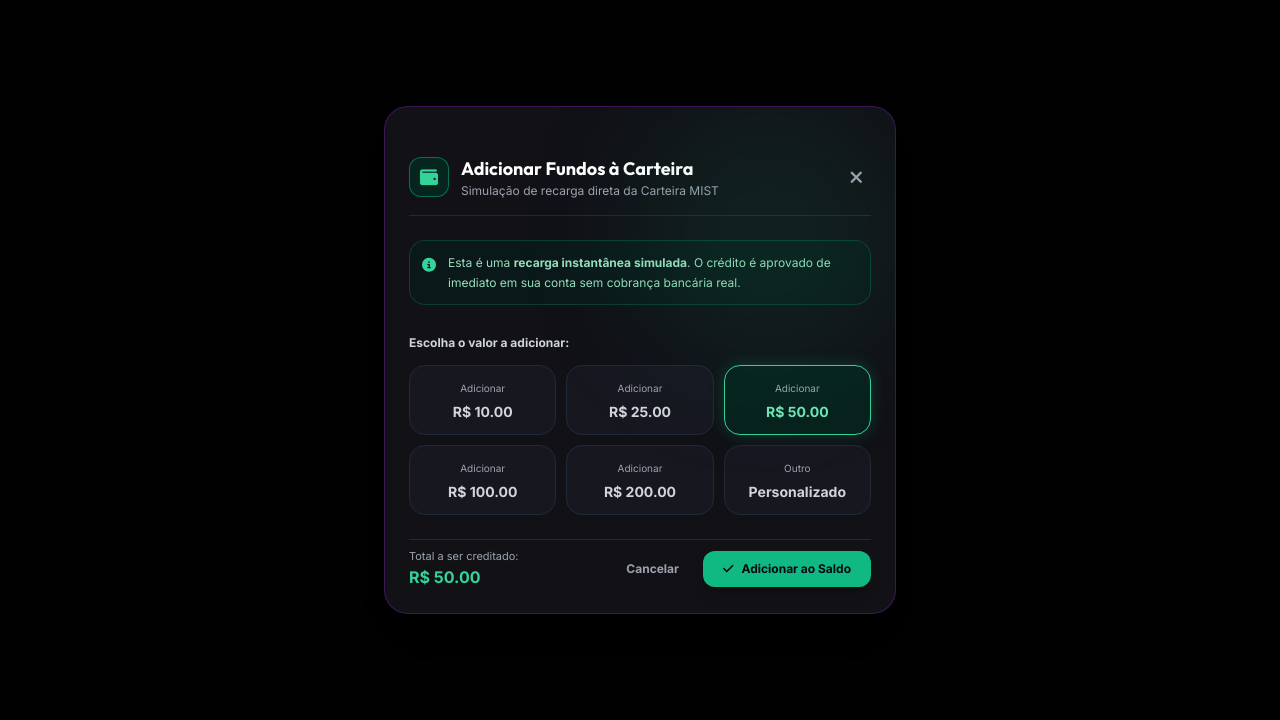
Test case: AddFundsModal Component › permite selecionar valor personalizado e atualizar total
Click the button with test id "btn-amount-custom" at (797, 480), box x1=724 y1=445 x2=871 y2=515
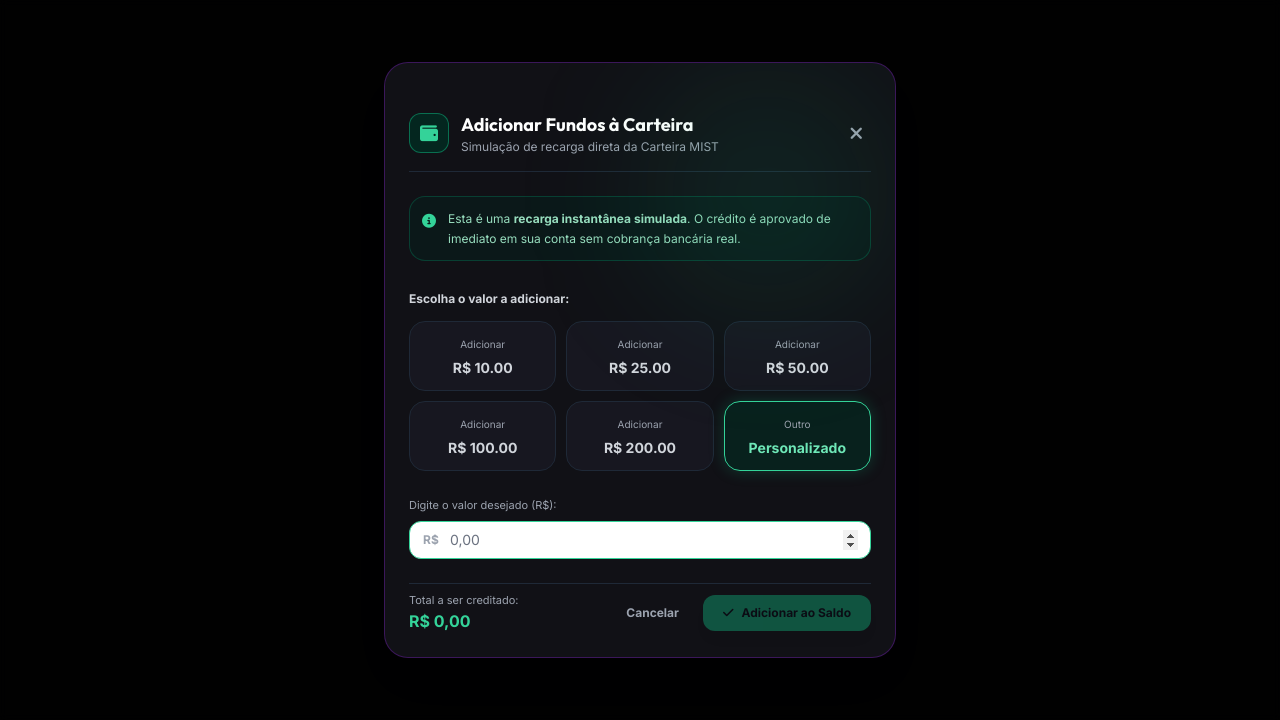
Type "150.50" into the number field with test id "input-custom-amount" at (640, 540), box x1=409 y1=521 x2=871 y2=559
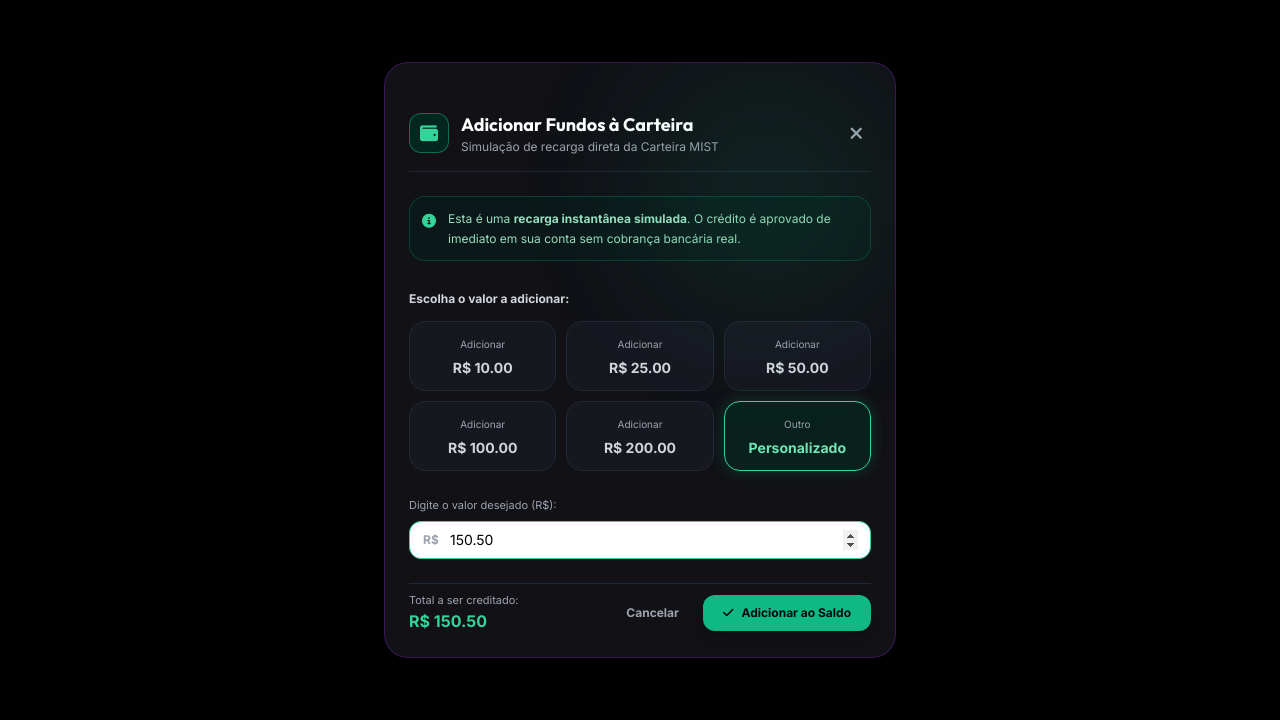
expect the text "R$ 150.50" is shown: met, box x1=409 y1=611 x2=487 y2=631
